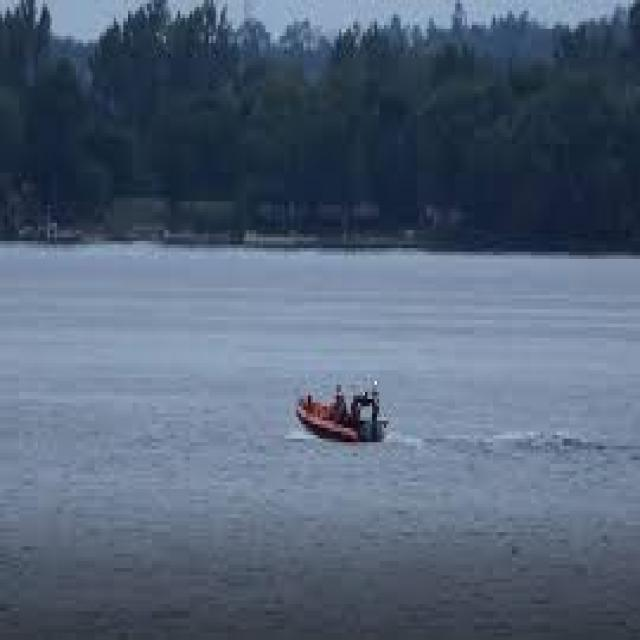houseboat: (295, 372, 388, 440)
